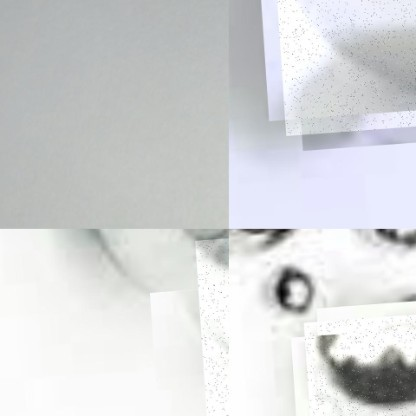ironball: (266, 0, 415, 138), (50, 228, 228, 334), (300, 318, 415, 415), (245, 247, 341, 333), (193, 236, 228, 415), (341, 228, 415, 277)
